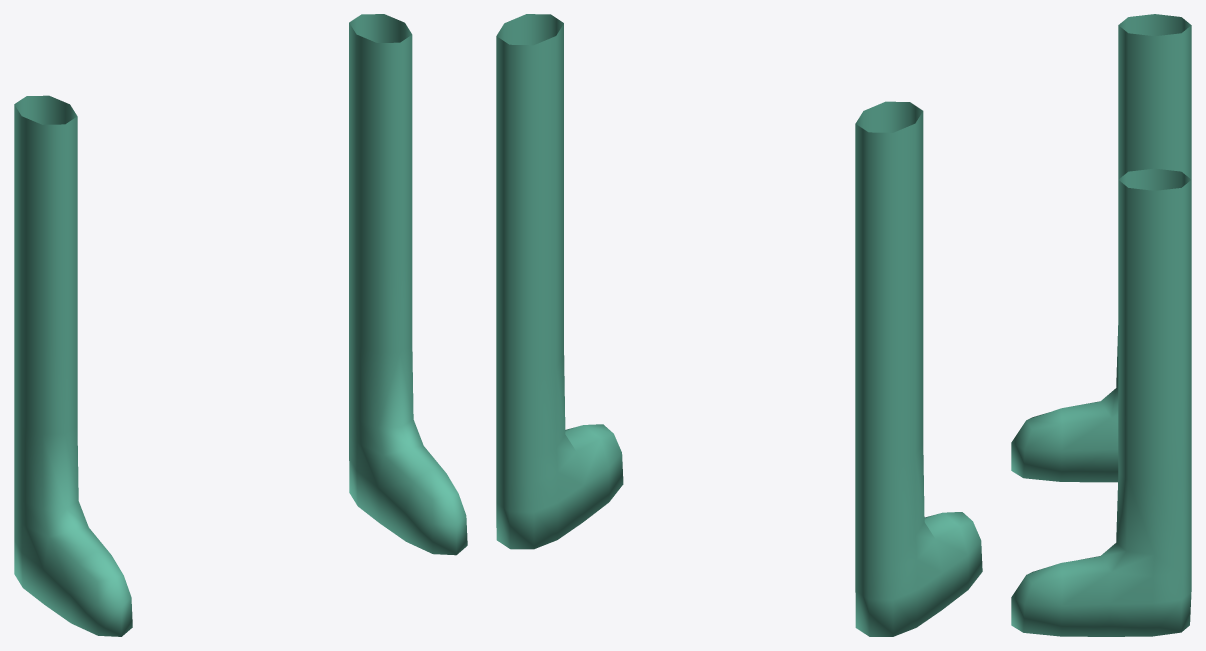
File: PiernasBMO_obj.obj
3 renders of one model, left to right at view 1: azimuth 30°, elevation 25°; view 2: azimuth 150°, elevation 25°; view 3: azimuth 270°, elevation 25°, orthographic. The views are drawn at different scales.
Visible parts, largest first — view 1: piernas; view 2: piernas; view 3: piernas.
Boxes of the visible parts, x1,y1,x2,y2 form: piernas: [14, 14, 467, 636]; piernas: [496, 14, 982, 636]; piernas: [1011, 14, 1191, 636].
Size of the model in its own units: 0.6788 by 0.7936 by 0.2896.
